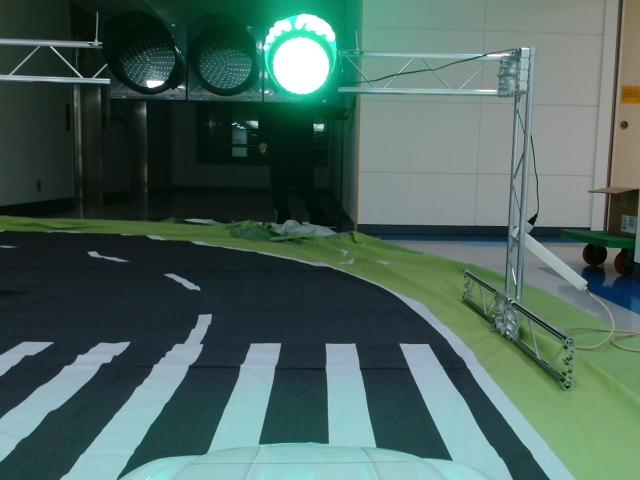crosswalk: (1, 337, 513, 480)
traffic light-green-: (103, 11, 340, 103)
